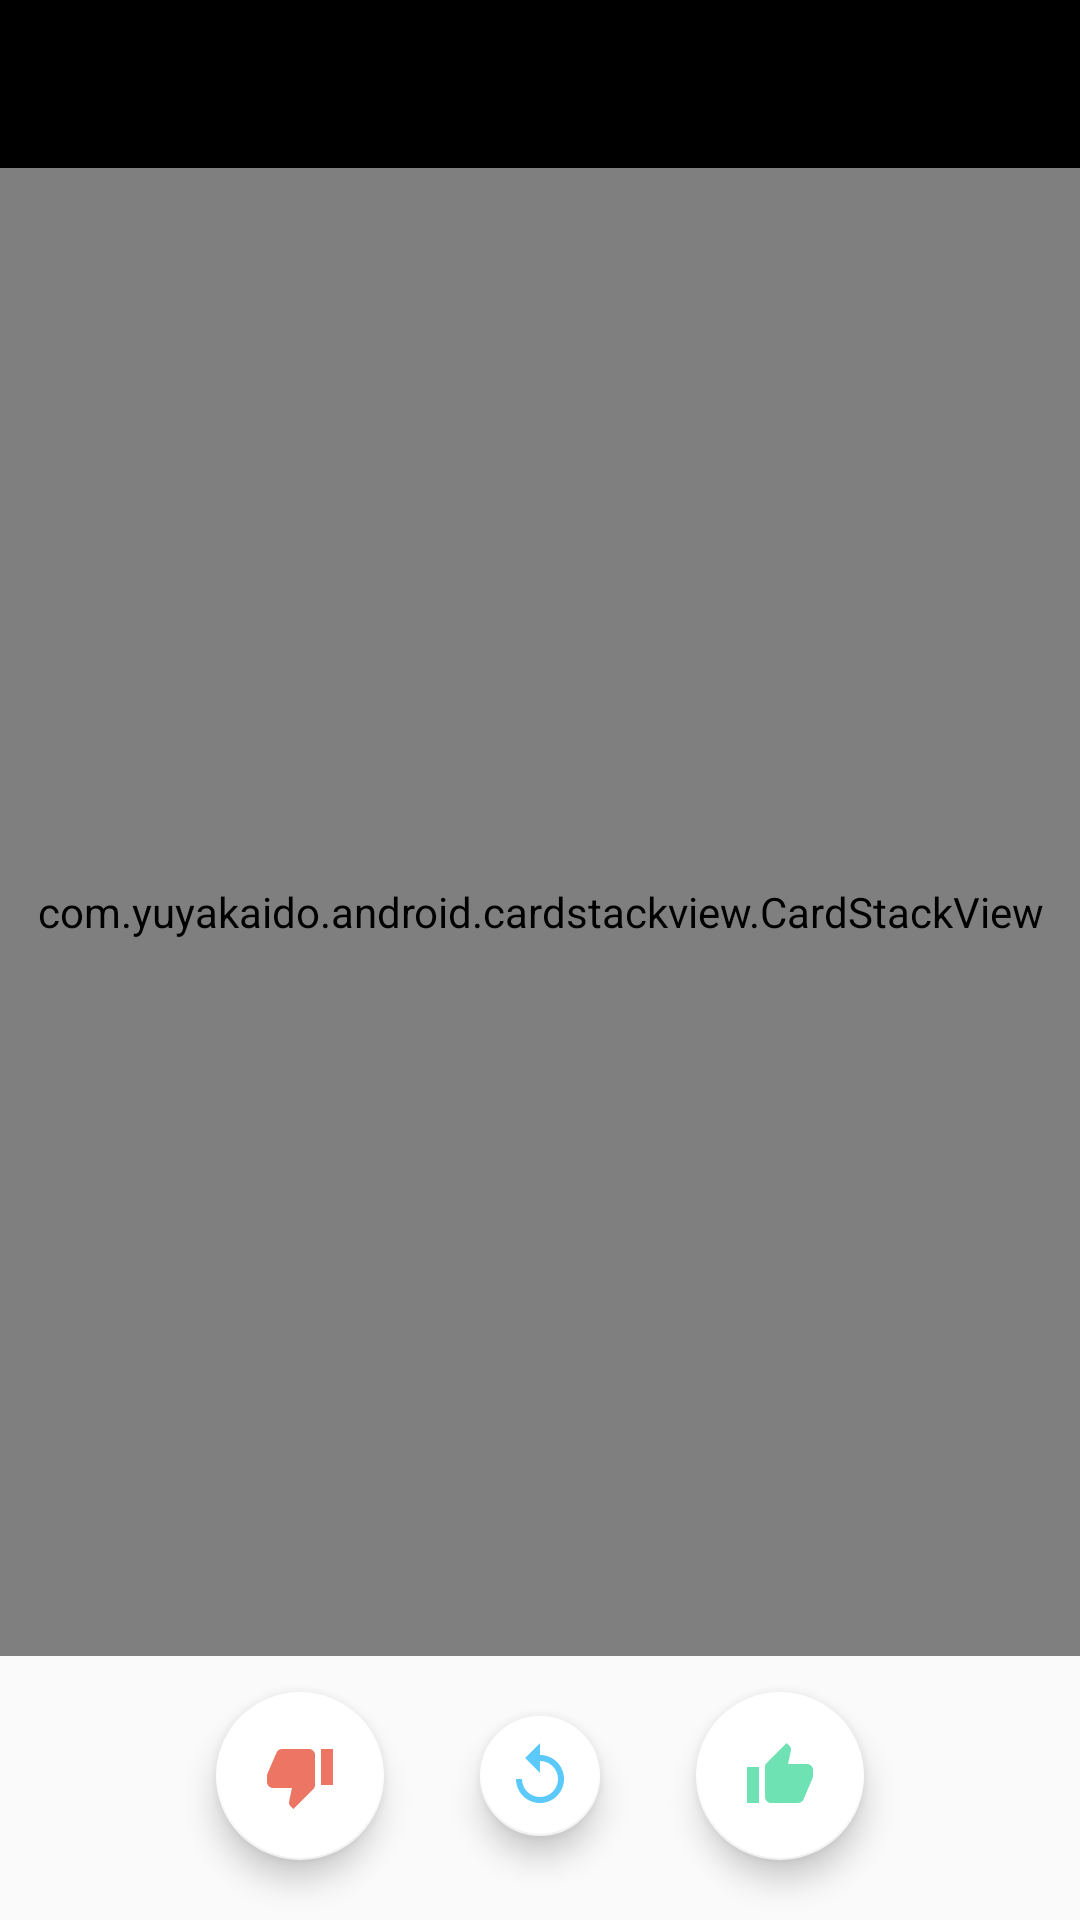

Point at icon controls on the screen. Image size 1080w x 1920h, points as (x,y).
like: (780,1773)
rewind: (522,1773)
skip: (324,1779)
